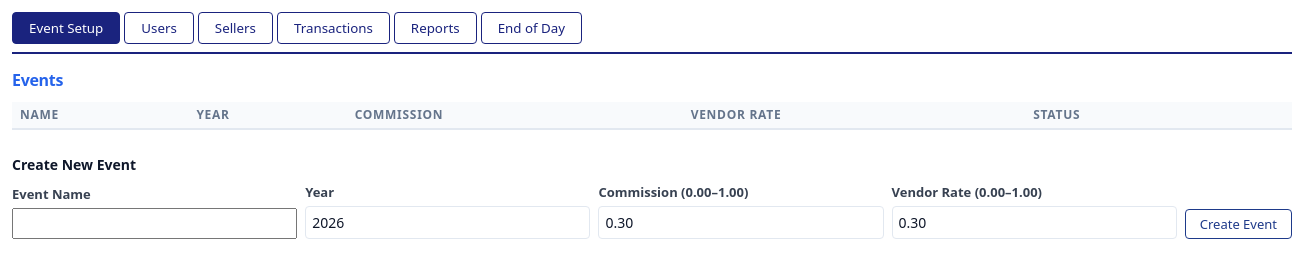
Test case: AdminPage navigation › shows SellerListPage when Sellers tab is clicked
This screenshot has width=1304, height=256.
Click the button "Sellers". click: (235, 28)
box: [198,12,273,44]
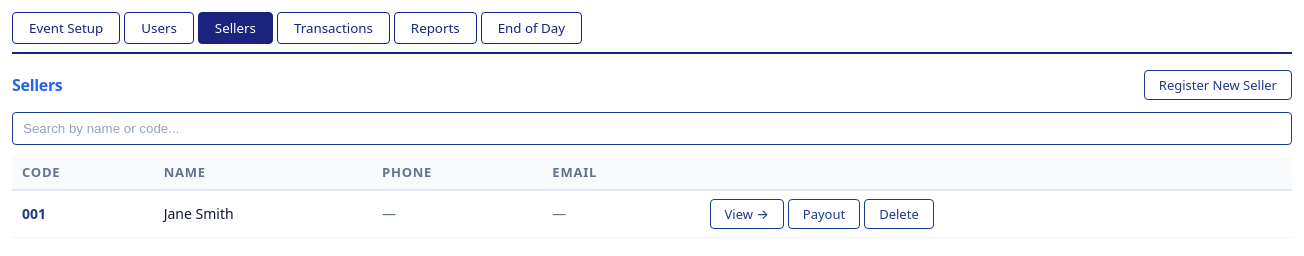
Check: the text "Jane Smith" is shown, box [154,190,372,237]
